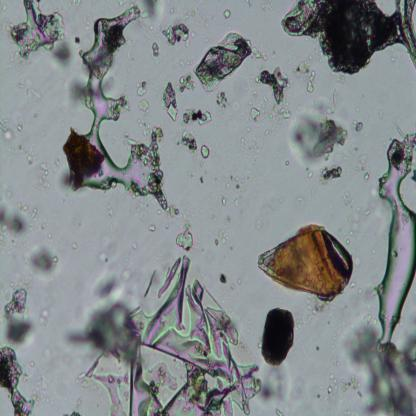Air bubble: (69, 0, 167, 213), (374, 129, 416, 343)
Background material: (72, 251, 254, 415), (282, 0, 401, 88), (258, 218, 350, 306), (345, 328, 416, 416), (0, 282, 39, 413), (9, 0, 71, 69), (194, 38, 262, 95), (294, 110, 346, 179), (246, 64, 294, 124), (61, 129, 104, 187), (261, 305, 298, 371), (0, 199, 32, 249), (340, 190, 370, 242), (26, 242, 60, 282), (257, 370, 292, 408), (235, 126, 265, 164), (328, 372, 366, 400), (296, 301, 326, 334), (14, 71, 41, 107), (356, 288, 376, 334), (29, 208, 54, 242), (182, 129, 212, 157), (161, 81, 181, 123), (163, 22, 191, 49), (294, 62, 316, 96), (139, 0, 164, 29), (92, 229, 113, 263), (183, 106, 214, 129), (220, 177, 243, 208), (134, 80, 153, 115), (160, 197, 186, 221), (174, 219, 194, 250), (0, 114, 23, 140), (67, 75, 85, 108), (174, 4, 206, 20), (35, 158, 51, 190), (353, 150, 371, 178), (210, 224, 230, 247), (180, 70, 196, 96), (34, 343, 57, 361), (216, 271, 236, 290), (11, 148, 34, 164), (40, 308, 55, 327), (351, 117, 364, 133), (332, 356, 341, 374), (222, 8, 232, 19), (148, 224, 157, 233)
Cellulose filter fibre: (400, 1, 416, 69)
